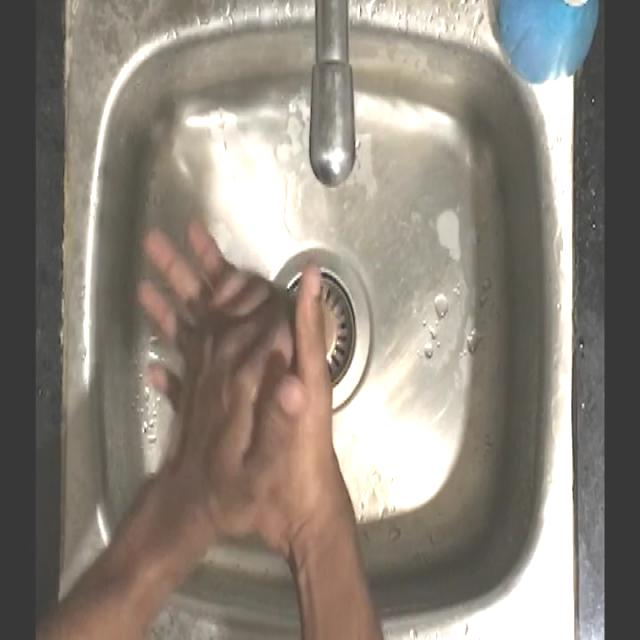step_5: (134, 206, 343, 543)
